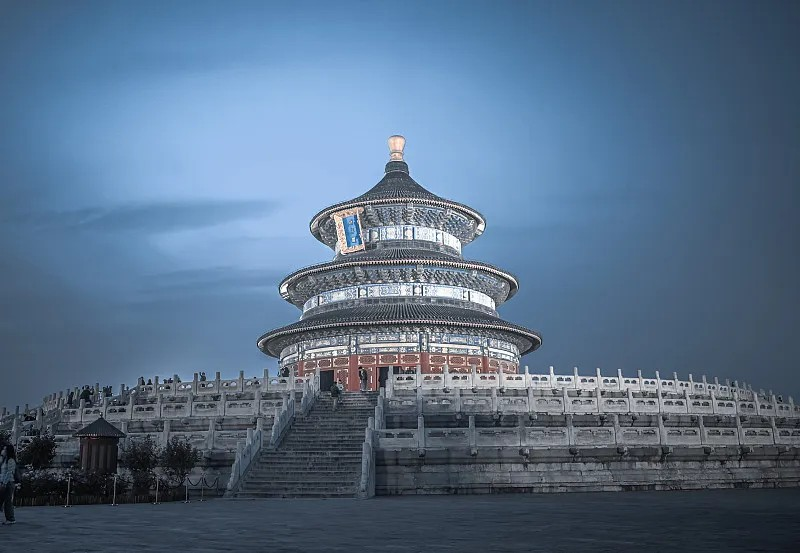Heaven: (258, 135, 543, 395)
